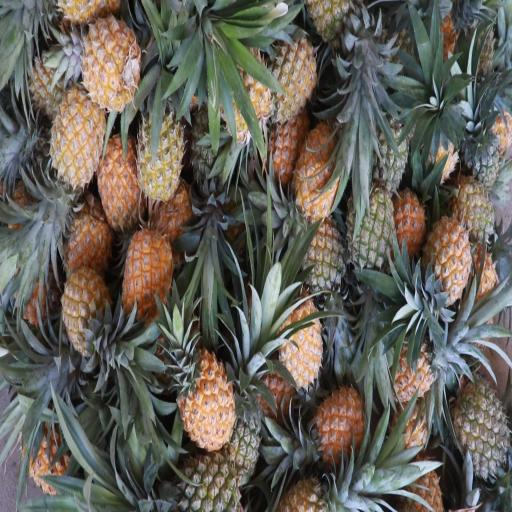------------------------------: (293, 196, 350, 303), (136, 90, 186, 205)
Pineapple - v8 v1: (172, 326, 235, 448), (76, 11, 139, 123), (266, 276, 325, 394), (45, 76, 106, 188), (292, 109, 350, 225), (306, 383, 372, 477), (118, 210, 174, 318), (422, 202, 473, 318), (264, 21, 318, 119), (93, 124, 144, 224), (62, 255, 112, 354)
